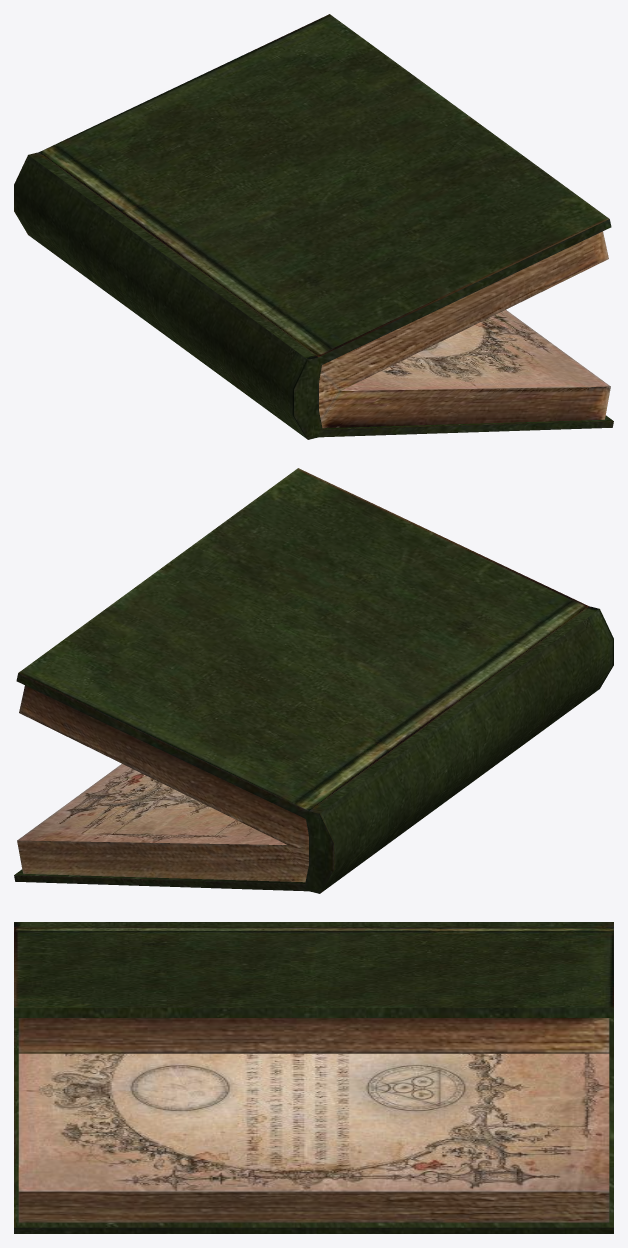
Rendered from Book_D.glb.
The picture shows the model from 3 angles, top to bottom: view 1: azimuth 30°, elevation 25°; view 2: azimuth 150°, elevation 25°; view 3: azimuth 270°, elevation 25°; orthographic projection. The views are drawn at different scales.
Visible parts, largest first — view 1: Book_D; view 2: Book_D; view 3: Book_D.
Boxes of the visible parts, <box> form: Book_D: <box>14,14,613,439</box>; Book_D: <box>14,468,613,893</box>; Book_D: <box>14,922,613,1233</box>.
Size of the model in its own units: 0.2243 by 0.1404 by 0.34.
Materials: 1 (1 with a texture image).
